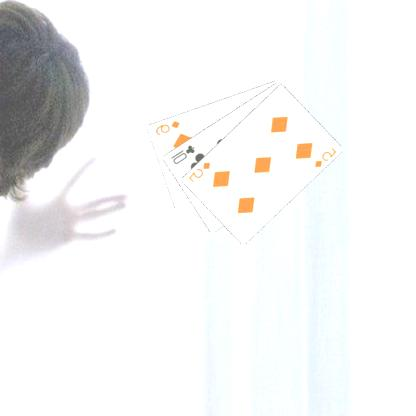10C: (169, 142, 198, 165)
5D: (187, 159, 213, 184), (314, 145, 340, 169)
6D: (154, 118, 183, 136)
